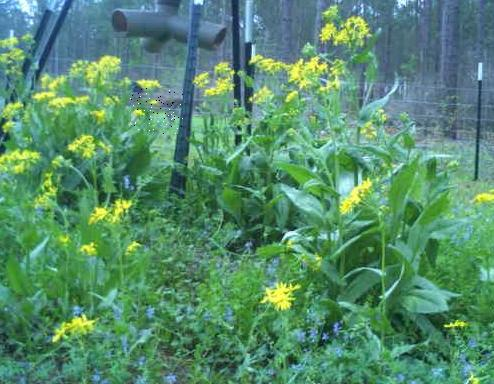Deer: (129, 89, 182, 135)
